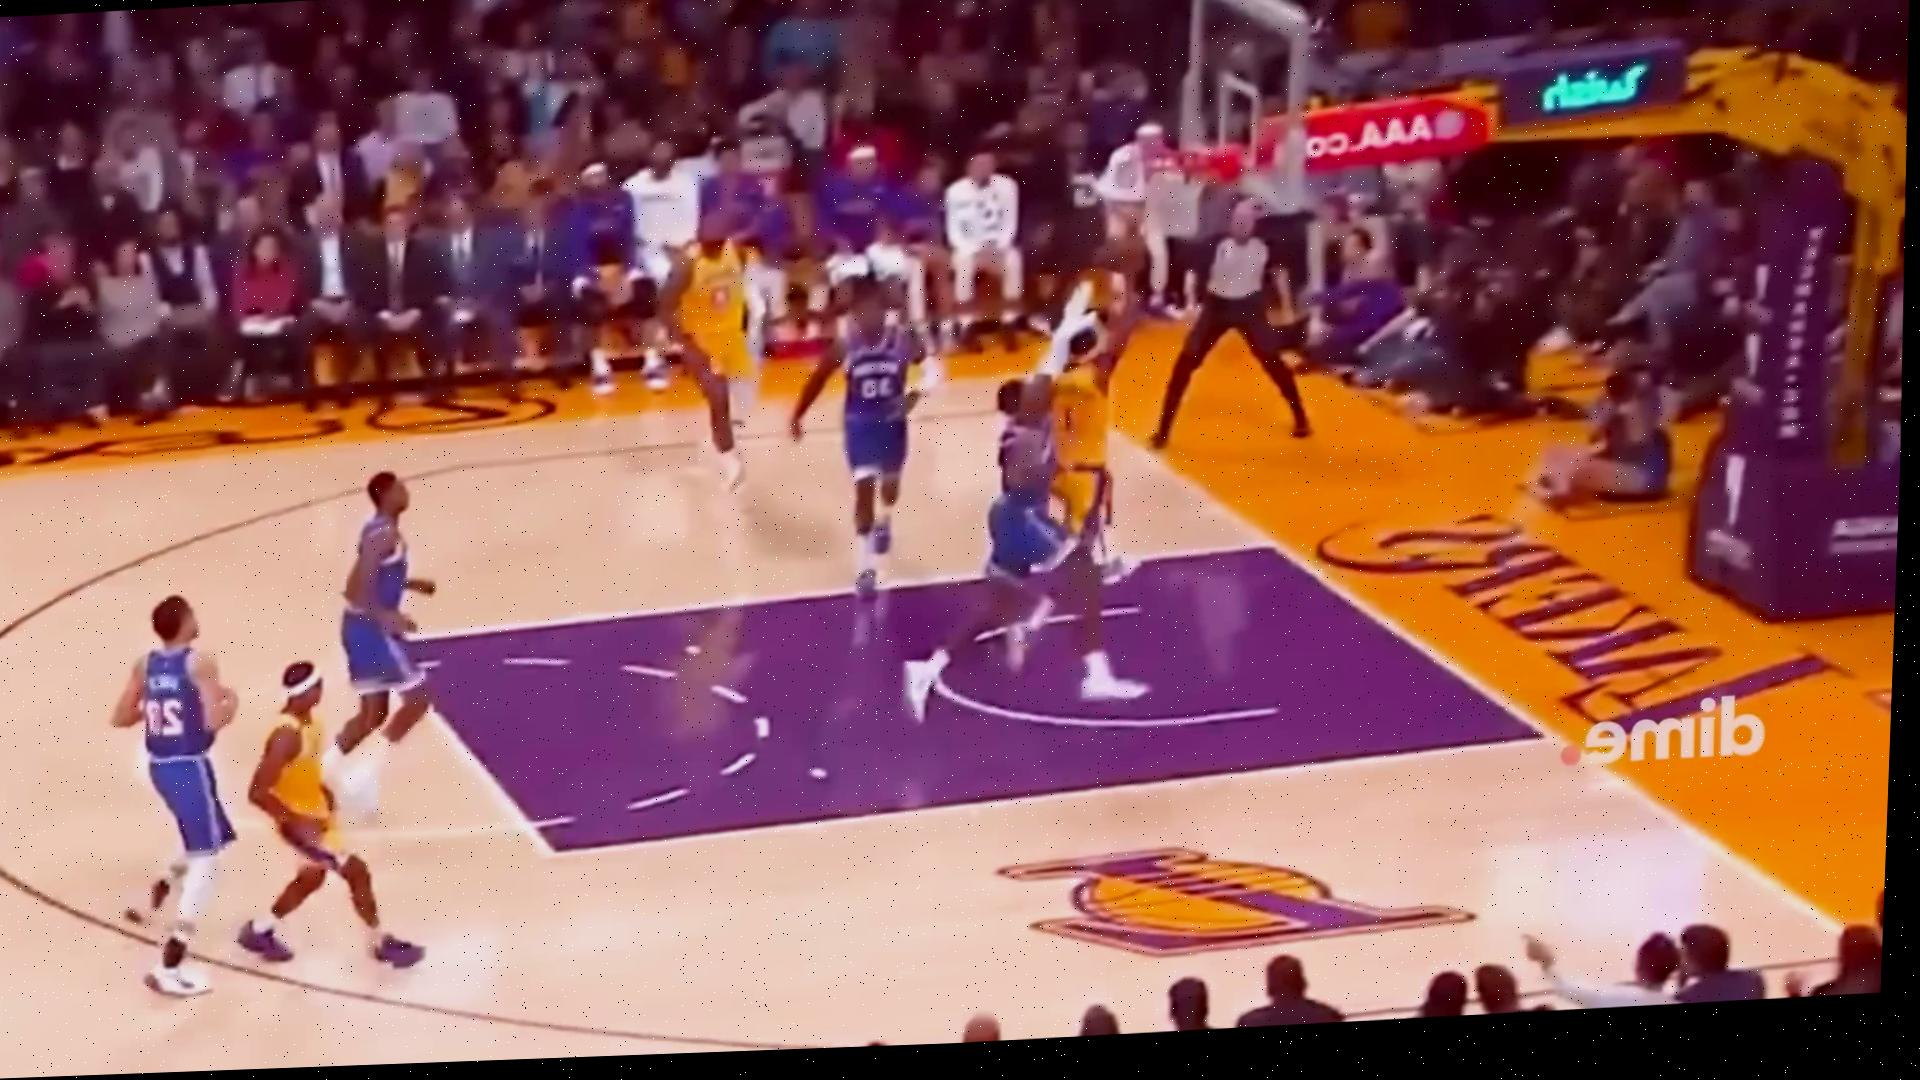foul: (899, 235, 1196, 731)
